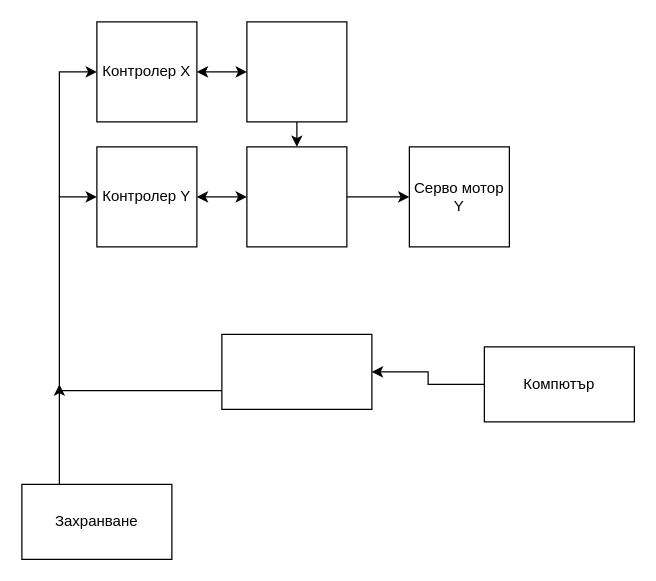
Image size: 656x581. Some labels were removed from this diagram. The centre of each missing label's shape, as x and y in pixels:
"Arduino UNO" goes at point (296, 371).
"Стъпков мотор Z" goes at point (296, 196).
"Стъпков мотор Х" goes at point (296, 71).
